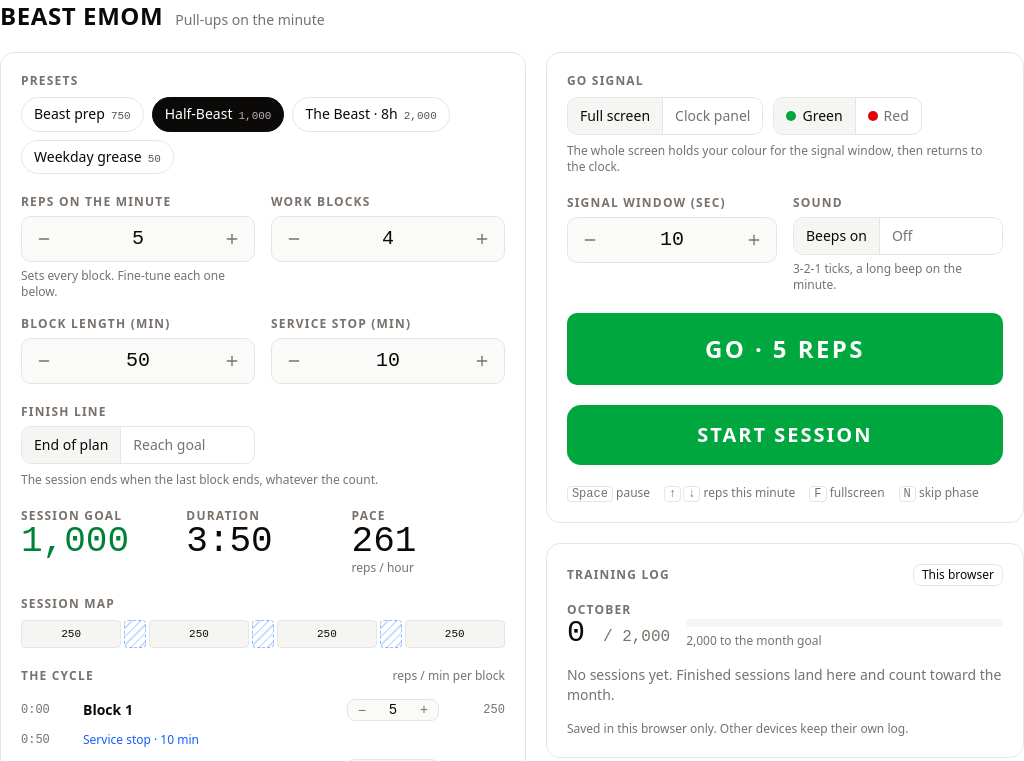
it: EmomTracker › does not credit the minutes of a skipped work block
Click the button "Start session": (785, 435) [567,405,1003,465]
Wait 75000 ms
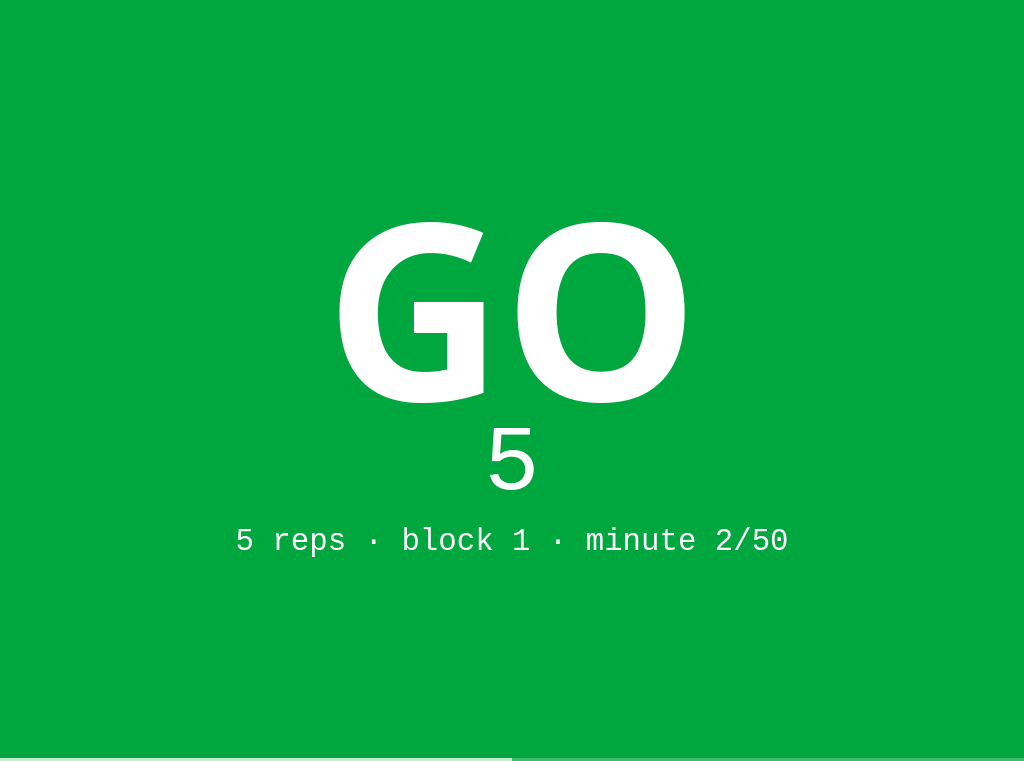
Press n
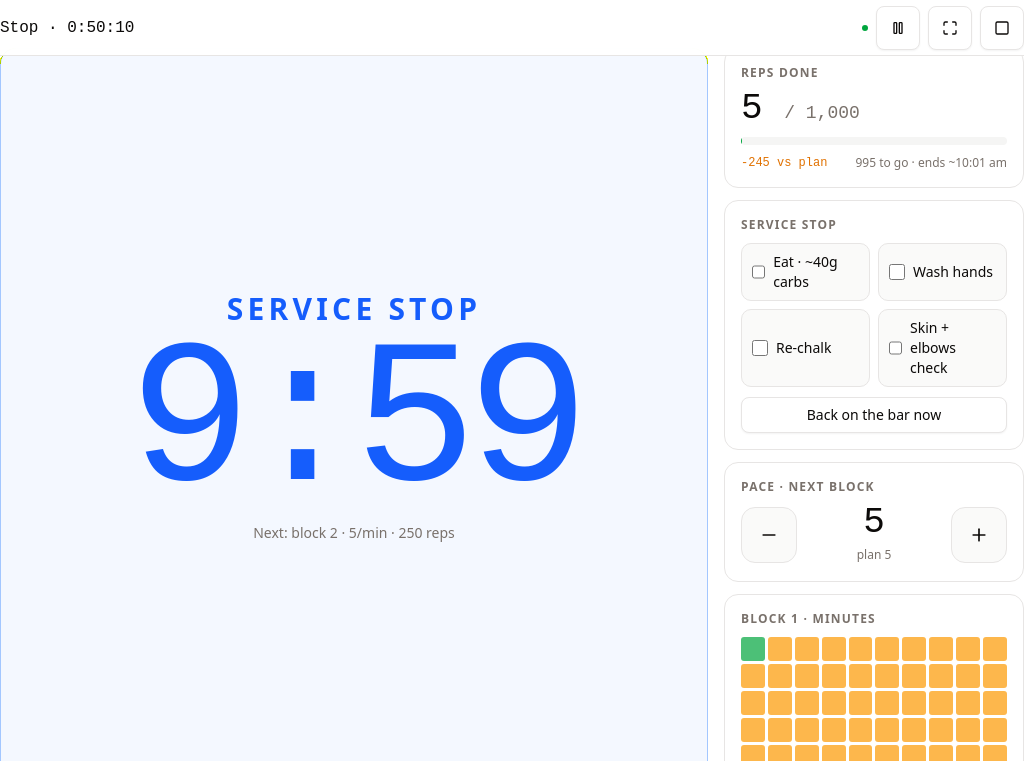
Expected: the text "995 to go · ends ~10:01 am" is shown, [855,155,1007,171]
Expected: the text "Service stop" next to "9:59" is shown, [227,288,481,329]
Click the button named "End": (1002, 28) [980,6,1023,50]
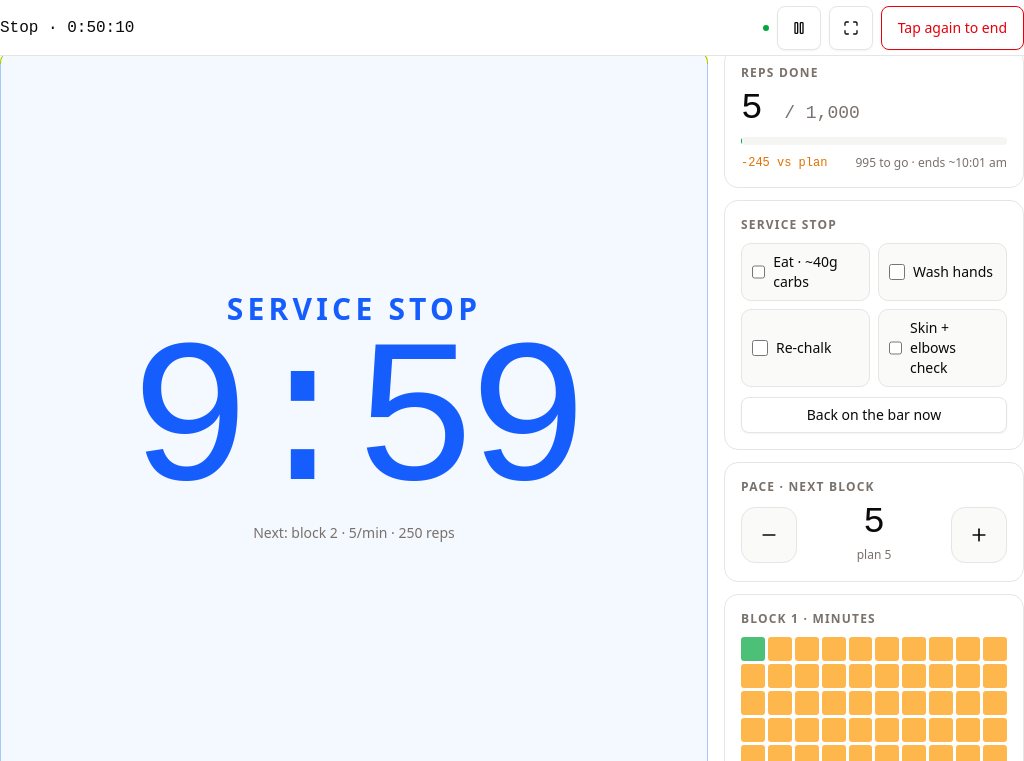
Click the button "Tap again to end": (952, 28) [881,6,1023,50]
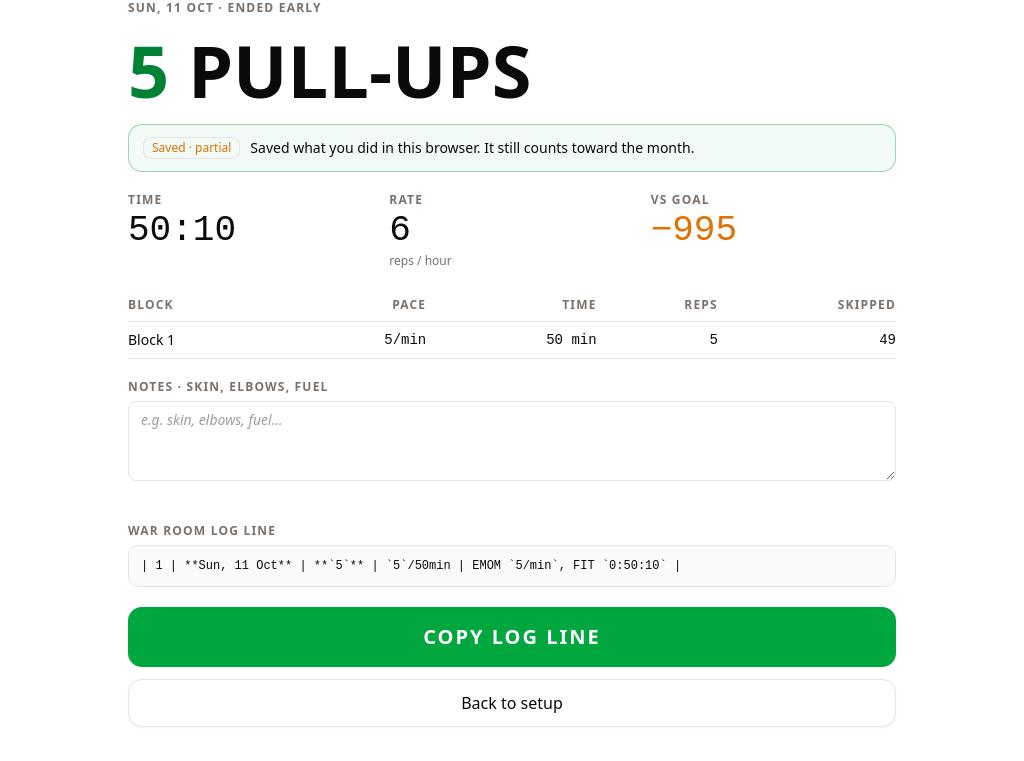
Expected: the heading reads "5 pull-ups", [128,21,531,119]
Expected: the column heading "Skipped" is shown, [726,289,896,322]
